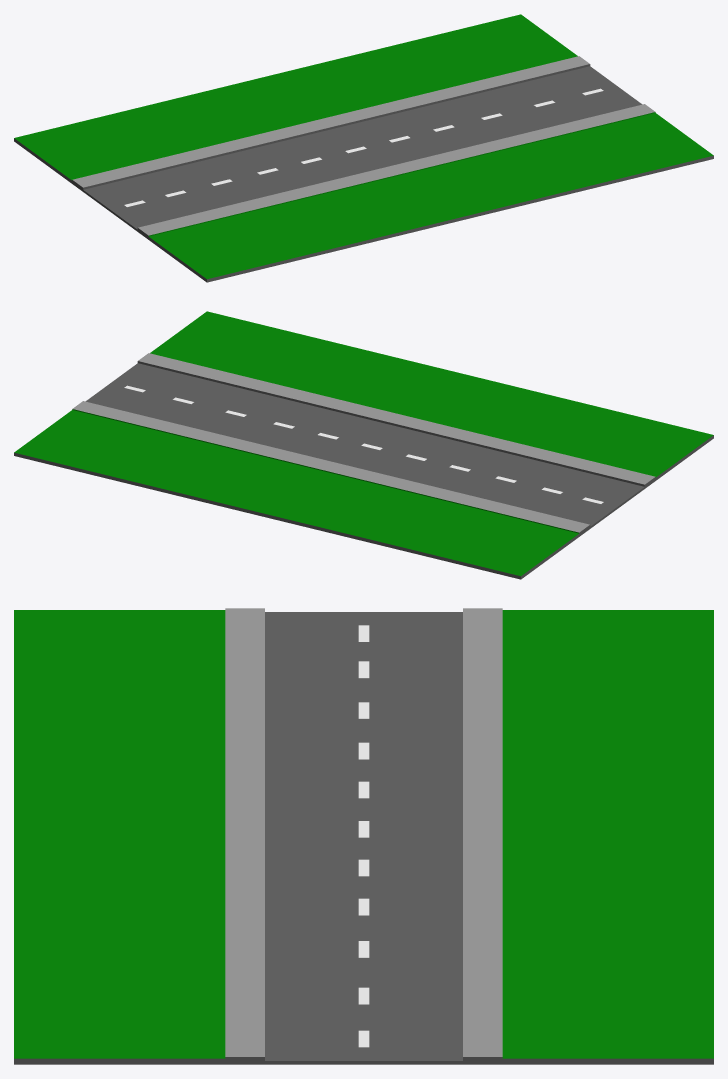
Rendered from road 1.fbx.
The picture shows the model from 3 angles, top to bottom: view 1: azimuth 30°, elevation 25°; view 2: azimuth 150°, elevation 25°; view 3: azimuth 270°, elevation 25°; orthographic projection. The views are drawn at different scales.
Parts seen in each view (by area): view 1: Cube, Plane.007; view 2: Cube, Plane.007; view 3: Cube, Plane.007.
Part boxes in pixels (bbox=[...]): Cube: bbox=[14, 14, 713, 282]; Plane.007: bbox=[124, 100, 555, 207]; Cube: bbox=[14, 311, 713, 579]; Plane.007: bbox=[172, 397, 603, 504]; Cube: bbox=[14, 608, 713, 1064]; Plane.007: bbox=[358, 625, 369, 1004].
Bounding box in the file's own units: 5390 × 43.84 × 3554.
